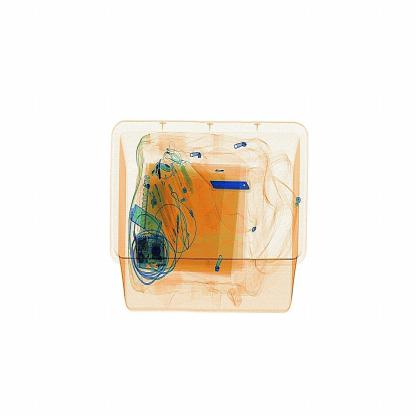pliers: (206, 168, 255, 199)
